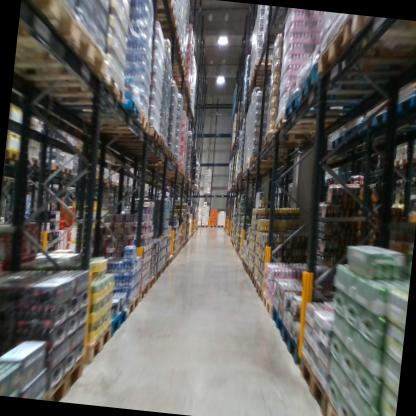pallet: (294, 51, 416, 125), (12, 7, 108, 101), (312, 19, 416, 90), (41, 67, 129, 110), (269, 102, 351, 146), (18, 0, 74, 59), (281, 85, 350, 131), (68, 85, 144, 125), (40, 346, 86, 400), (292, 353, 330, 416), (247, 140, 318, 173), (341, 17, 416, 42), (93, 103, 151, 134), (79, 316, 113, 368), (359, 99, 400, 141), (277, 322, 307, 374), (108, 122, 161, 148), (260, 17, 294, 57), (260, 130, 320, 152), (393, 82, 416, 126), (250, 53, 283, 83), (341, 113, 366, 149), (106, 304, 128, 342), (322, 393, 358, 416), (119, 289, 142, 323), (24, 149, 51, 175), (270, 302, 287, 340), (138, 130, 165, 152), (325, 127, 343, 155), (393, 153, 416, 173), (137, 278, 151, 308), (261, 290, 275, 320), (45, 157, 66, 176), (395, 174, 416, 190), (153, 147, 176, 161), (6, 147, 25, 163), (253, 280, 265, 305), (62, 164, 80, 179), (336, 170, 353, 184), (146, 270, 156, 292), (250, 271, 258, 293), (160, 141, 169, 159), (329, 171, 338, 185), (319, 175, 330, 186), (246, 267, 253, 283), (239, 255, 246, 270), (242, 261, 249, 275), (199, 223, 209, 231), (209, 222, 218, 229), (202, 191, 212, 197), (216, 223, 225, 228), (195, 224, 201, 229)
